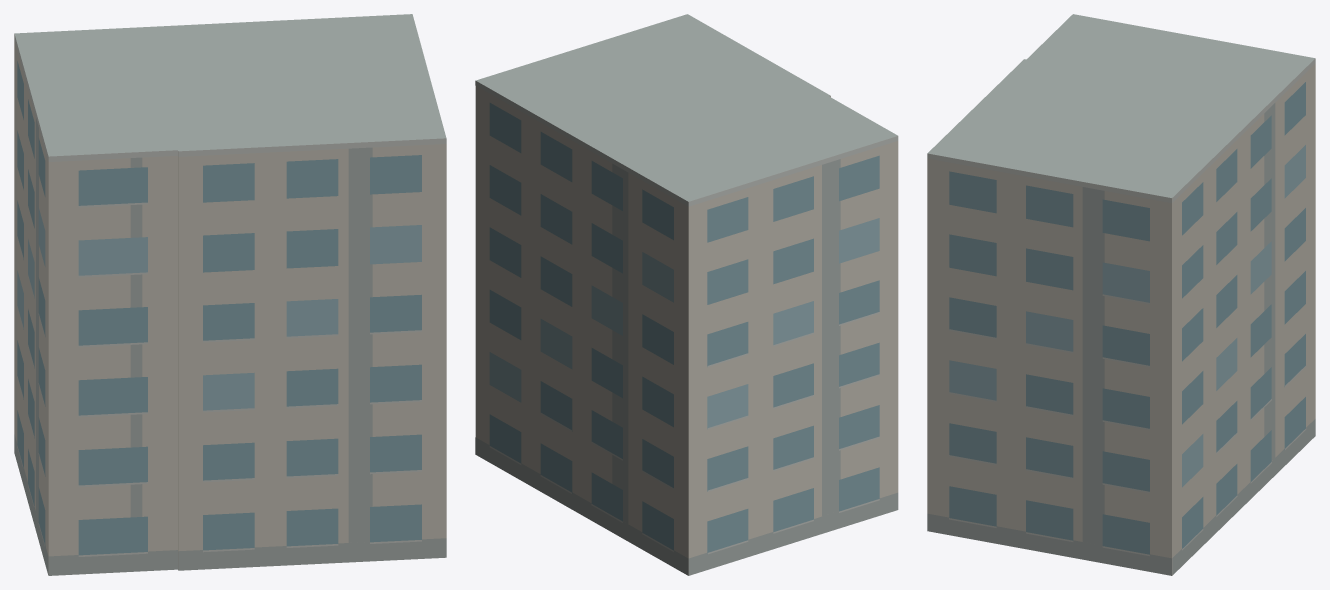
The model's file is survey-upis-32929418.glb.
3 renders of one model, left to right at view 1: azimuth 30°, elevation 25°; view 2: azimuth 150°, elevation 25°; view 3: azimuth 270°, elevation 25°, orthographic. The views are drawn at different scales.
Parts seen in each view (by area): view 1: survey-upis-32929418.tmp; view 2: survey-upis-32929418.tmp; view 3: survey-upis-32929418.tmp.
Part boxes in pixels (x1=…): survey-upis-32929418.tmp: x1=14, y1=14, x2=446, y2=575; survey-upis-32929418.tmp: x1=475, y1=14, x2=898, y2=575; survey-upis-32929418.tmp: x1=927, y1=14, x2=1315, y2=575.
Size of the model in its own units: 19.15 by 18.3 by 17.06.
